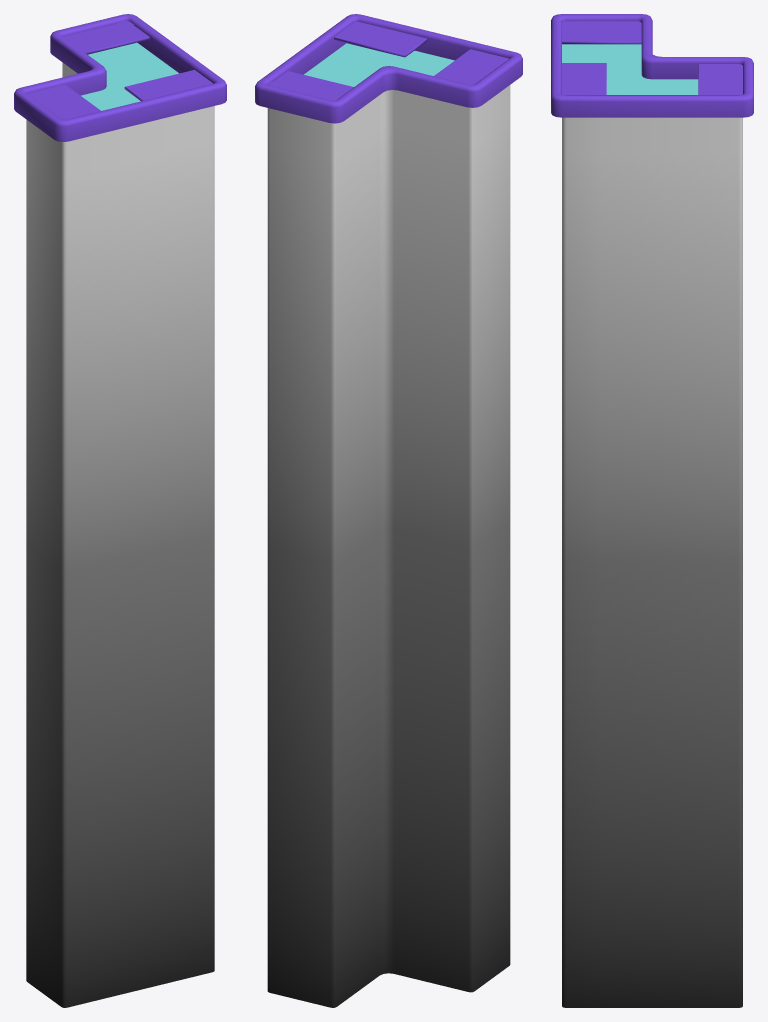
The picture shows the model from 3 angles, left to right: view 1: azimuth 30°, elevation 25°; view 2: azimuth 150°, elevation 25°; view 3: azimuth 270°, elevation 25°; orthographic projection. The views are drawn at different scales.
Parts seen in each view (by area): view 1: L_2x1, L_2x1_Cap, L_2x1_Stencil; view 2: L_2x1, L_2x1_Cap, L_2x1_Stencil; view 3: L_2x1, L_2x1_Cap, L_2x1_Stencil.
Boxes of the visible parts, box(x1,y1,x2,y2) form: L_2x1: box(14, 14, 226, 1007); L_2x1_Cap: box(27, 23, 212, 119); L_2x1_Stencil: box(81, 42, 178, 110); L_2x1: box(255, 14, 522, 1007); L_2x1_Cap: box(273, 22, 508, 100); L_2x1_Stencil: box(304, 43, 454, 86); L_2x1: box(551, 14, 753, 1007); L_2x1_Cap: box(562, 21, 742, 94); L_2x1_Stencil: box(562, 44, 698, 94).
Bounding box in the file's own units: 2 × 9.94 × 2.
Materials: 3 (1 with a texture image).
